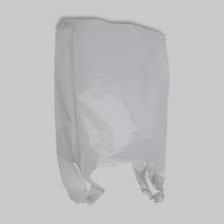plastic_bag: (50, 13, 175, 212)
